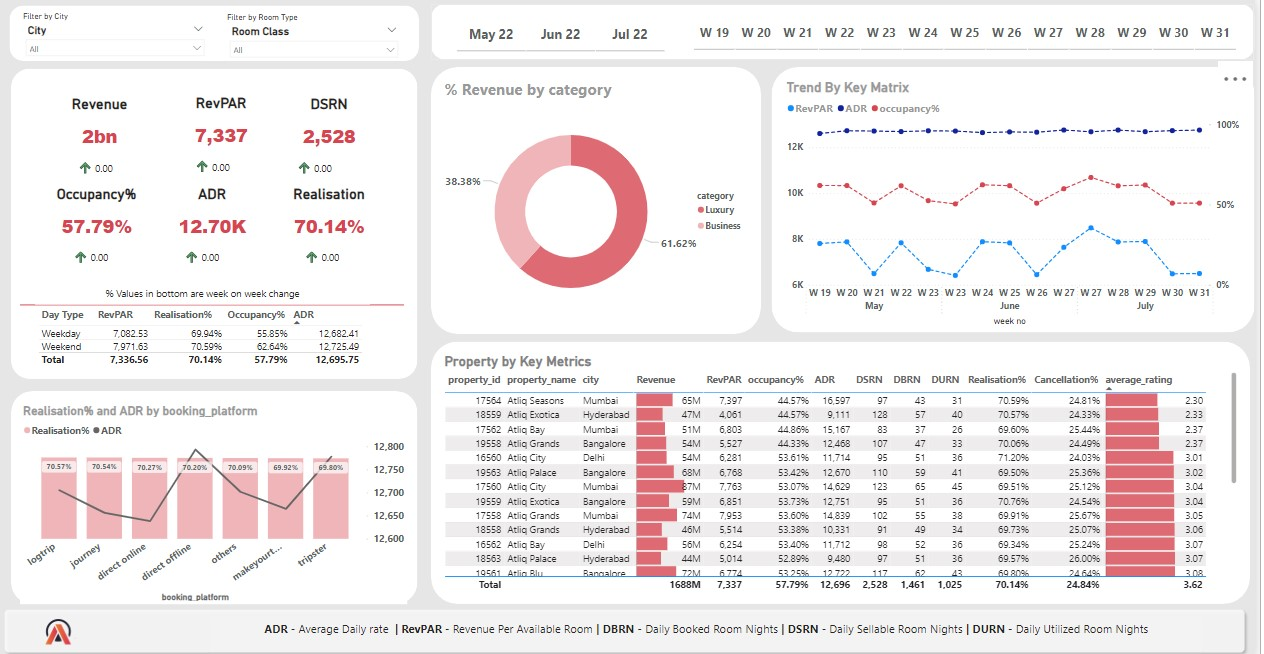

This screenshot's page, from the dashboard's own definition file:
{"tool":"powerbi","page":{"name":"Page 1","canvas":[2094,1101],"ordinal":0},"visuals":[{"type":"shape","box":[1287.5,115,805,442.5],"z":0},{"type":"shape","box":[720,115,550,445],"z":1000},{"type":"shape","box":[20,117.5,677.5,517.5],"z":2000},{"type":"shape","box":[17.5,12.5,682.5,92.5],"z":3000},{"type":"slicer","title":"Filter by City","fields":{"Values":["dim_hotels.city"]},"box":[35,22.5,317.5,75],"z":4000},{"type":"slicer","title":"Filter by Room Type","fields":{"Values":["dim_rooms.room_class"]},"box":[375,25,300,75],"z":5000},{"type":"donutChart","title":"% Revenue by category","fields":{"Category":["dim_hotels.category"],"Y":["key_measures.Revenue"]},"box":[737.5,135,515,415],"z":6000},{"type":"tableEx","fields":{"Values":["key_measures.Revenue WoW change %"]},"box":[487,238,100,83],"z":7000},{"type":"card","title":"DSRN","fields":{"Values":["key_measures.DSRN"]},"box":[449.5,161.7,200,110],"z":8000},{"type":"tableEx","fields":{"Values":["key_measures.Revenue WoW change %"]},"box":[114.2,388.3,107.5,70],"z":9000},{"type":"tableEx","fields":{"Values":["key_measures.Revenue WoW change %"]},"box":[301,388,105,70],"z":10000},{"type":"tableEx","fields":{"Values":["key_measures.Revenue WoW change %"]},"box":[499,388,100,70],"z":11000},{"type":"card","title":"Realisation","fields":{"Values":["key_measures.Realisation%"]},"box":[449.5,312.5,200,110],"z":12000},{"type":"card","title":"ADR","fields":{"Values":["key_measures.ADR"]},"box":[254.2,313.3,200,110],"z":13000},{"type":"card","title":"Occupancy%","fields":{"Values":["key_measures.occupancy%"]},"box":[62.7,311.9,200,110],"z":14000},{"type":"tableEx","fields":{"Values":["key_measures.Revenue WoW change %"]},"box":[122,238,100,70],"z":15000},{"type":"card","title":"Revenue","fields":{"Values":["key_measures.Revenue"]},"box":[66.7,161.7,200,110],"z":16000},{"type":"lineChart","title":"Trend By Key Matrix","fields":{"Category":["dim_date.mmm yy.Variation.Date Hierarchy.Month","dim_date.week no"],"Y":["key_measures.RevPAR","key_measures.ADR"],"Y2":["key_measures.occupancy%"]},"box":[1307.5,135,765,415],"z":17000},{"type":"tableEx","fields":{"Values":["dim_date.day_type","key_measures.RevPAR","key_measures.Realisation%","key_measures.occupancy%","key_measures.ADR"]},"box":[60,510,597.5,112.5],"z":18000},{"type":"shape","box":[720,10,1372.5,92.5],"z":19000},{"type":"slicer","fields":{"Values":["dim_date.mmm yy"]},"box":[737.5,25,395,70],"z":20000},{"type":"slicer","fields":{"Values":["dim_date.week no"]},"box":[1132.5,22.5,952.5,70],"z":21000},{"type":"tableEx","fields":{"Values":["key_measures.Revenue WoW change %"]},"box":[318,234,102,70],"z":22000},{"type":"card","title":"RevPAR","fields":{"Values":["key_measures.RevPAR"]},"box":[269.2,159.2,200,110],"z":23000},{"type":"shape","box":[20,655,677.5,355],"z":24000},{"type":"lineStackedColumnComboChart","fields":{"Category":["fact_bookings.booking_platform"],"Y":["key_measures.Realisation%"],"Y2":["key_measures.ADR"]},"box":[35,675,645,335],"z":25000},{"type":"shape","box":[720,572.5,1365,437.5],"z":26000},{"type":"tableEx","title":"Property by Key Metrics","fields":{"Values":["dim_hotels.property_id","dim_hotels.property_name","dim_hotels.city","key_measures.Revenue","key_measures.RevPAR","key_measures.occupancy%","key_measures.ADR","key_measures.DSRN","key_measures.DBRN","key_measures.DURN","key_measures.Realisation%","key_measures.Cancellation%"]},"box":[737.5,592.5,1330,400],"z":27000},{"type":"shape","box":[0,1010,2085,90],"z":28000},{"type":"image","box":[17.5,1020,157.5,72.5],"z":29000},{"type":"textbox","box":[352.5,1032.5,1652.5,60],"z":30000},{"type":"shape","box":[35,368,640,288],"z":31000},{"type":"textbox","box":[60,474,558,36],"z":32000}]}

Visuals, with their boxes in screenshot pixels (x1, y1, x2, y2), scaled from the page's 2094x1101 canvas onto the 1264x654 screenshot:
shape: l=777, t=68, r=1263, b=331
shape: l=435, t=68, r=767, b=333
shape: l=12, t=70, r=421, b=377
shape: l=11, t=7, r=423, b=62
"Filter by City" slicer: l=21, t=13, r=213, b=58
"Filter by Room Type" slicer: l=226, t=15, r=407, b=59
"% Revenue by category" donutChart: l=445, t=80, r=756, b=327
tableEx - key_measures.Revenue WoW change %: l=294, t=141, r=354, b=191
"DSRN" card: l=271, t=96, r=392, b=161
tableEx - key_measures.Revenue WoW change %: l=69, t=231, r=134, b=272
tableEx - key_measures.Revenue WoW change %: l=182, t=230, r=245, b=272
tableEx - key_measures.Revenue WoW change %: l=301, t=230, r=362, b=272
"Realisation" card: l=271, t=186, r=392, b=251
"ADR" card: l=153, t=186, r=274, b=251
"Occupancy%" card: l=38, t=185, r=159, b=251
tableEx - key_measures.Revenue WoW change %: l=74, t=141, r=134, b=183
"Revenue" card: l=40, t=96, r=161, b=161
"Trend By Key Matrix" lineChart: l=789, t=80, r=1251, b=327
tableEx - dim_date.day_type x key_measures.RevPAR: l=36, t=303, r=397, b=370
shape: l=435, t=6, r=1263, b=61
slicer - dim_date.mmm yy: l=445, t=15, r=684, b=56
slicer - dim_date.week no: l=684, t=13, r=1259, b=55
tableEx - key_measures.Revenue WoW change %: l=192, t=139, r=254, b=181
"RevPAR" card: l=162, t=95, r=283, b=160
shape: l=12, t=389, r=421, b=600
lineStackedColumnComboChart - fact_bookings.booking_platform x key_measures.Realisation%: l=21, t=401, r=410, b=600
shape: l=435, t=340, r=1259, b=600
"Property by Key Metrics" tableEx: l=445, t=352, r=1248, b=590
shape: l=0, t=600, r=1259, b=653
image: l=11, t=606, r=106, b=649
textbox: l=213, t=613, r=1210, b=649
shape: l=21, t=219, r=407, b=390
textbox: l=36, t=282, r=373, b=303
